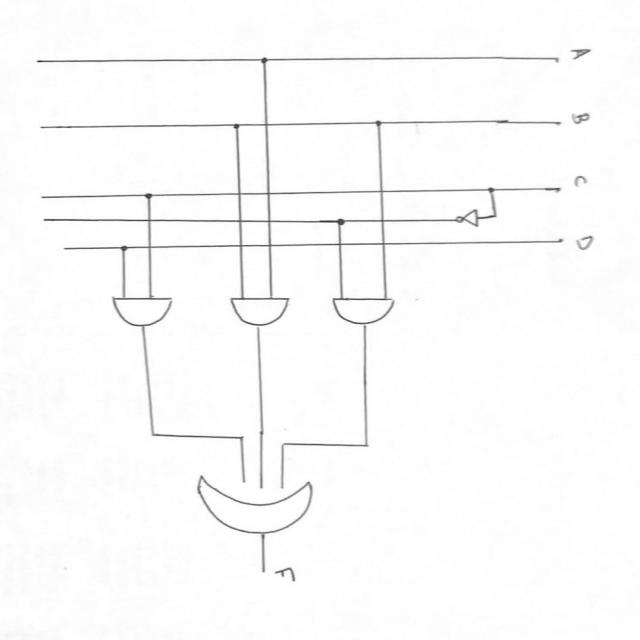AND: (226, 284, 303, 335), (329, 285, 409, 334), (104, 289, 183, 335)
NOT: (450, 206, 488, 232)
OR: (193, 461, 329, 540)
